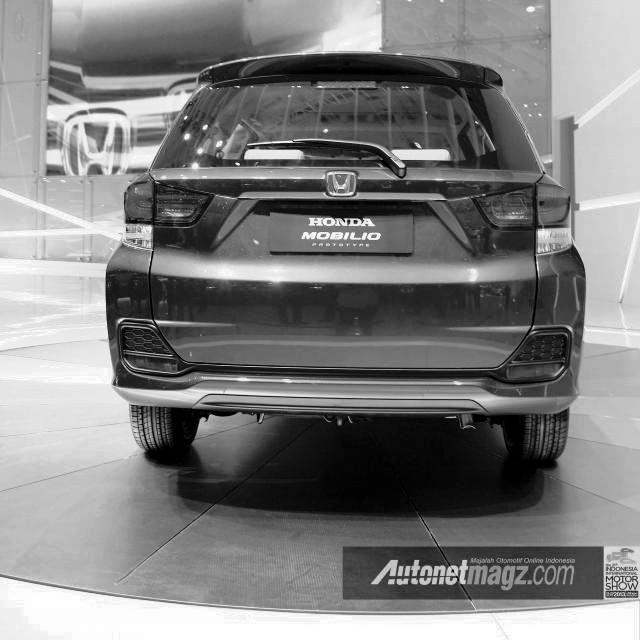Car: (111, 48, 593, 508)
